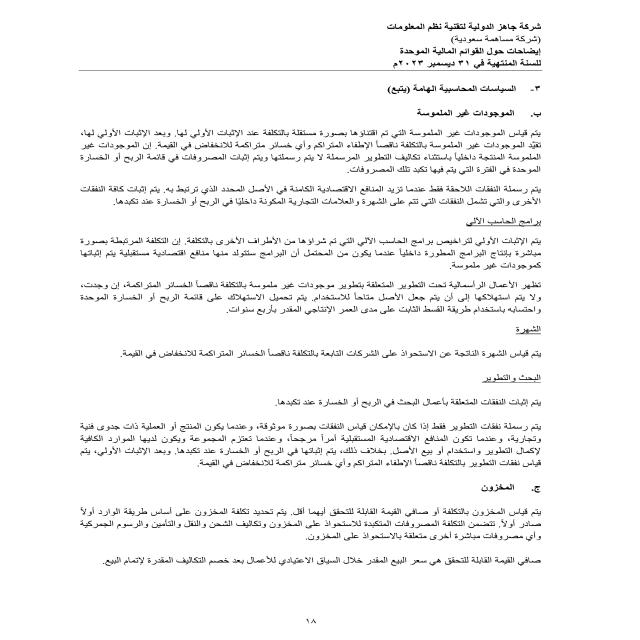notes: (397, 45, 545, 57)
text: (63, 78, 551, 574)
